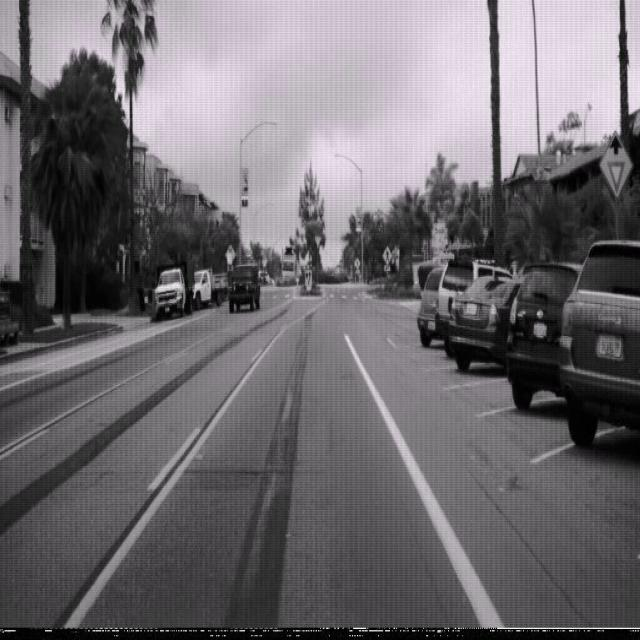pedestrianCrossing: (382, 244, 392, 266)
